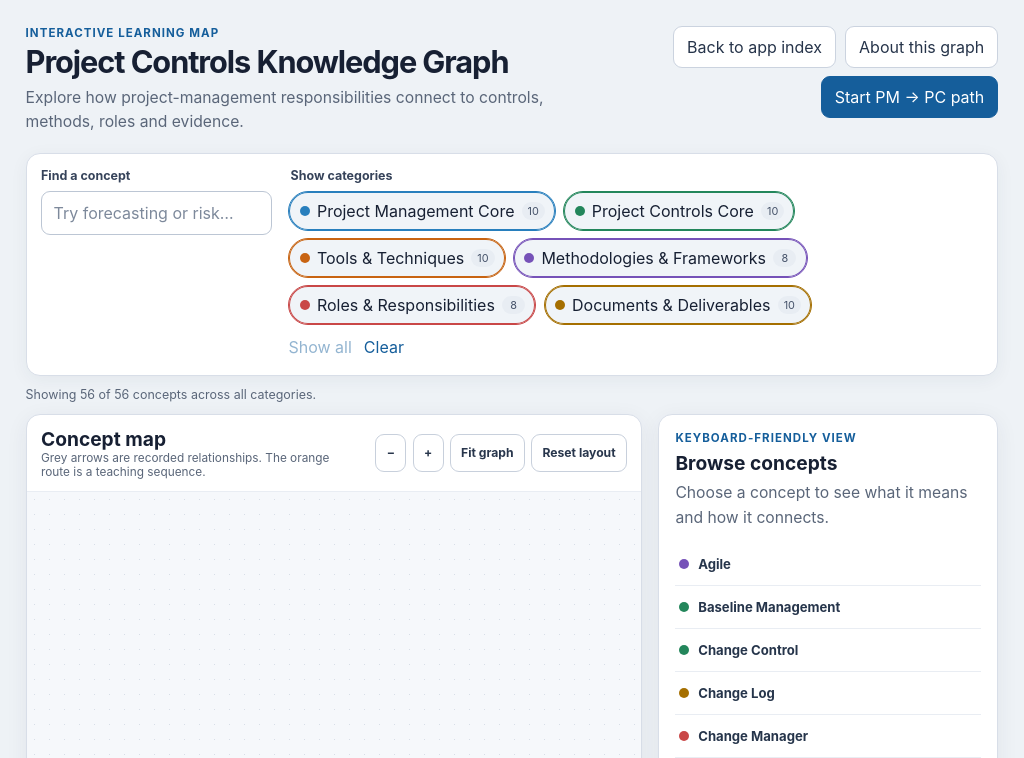
Scenario: Project Controls Knowledge Graph › renders the complete default view and real category controls
Expected: the heading "Project Controls Knowledge Graph" is shown, [26,45,586,78]
Expected: the text "Showing 56 of 56 concepts across all categories." is shown, [26,387,316,402]
Step 1. Click the button "Project Management Core 10" → x=422, y=211, box [288,191,556,231]
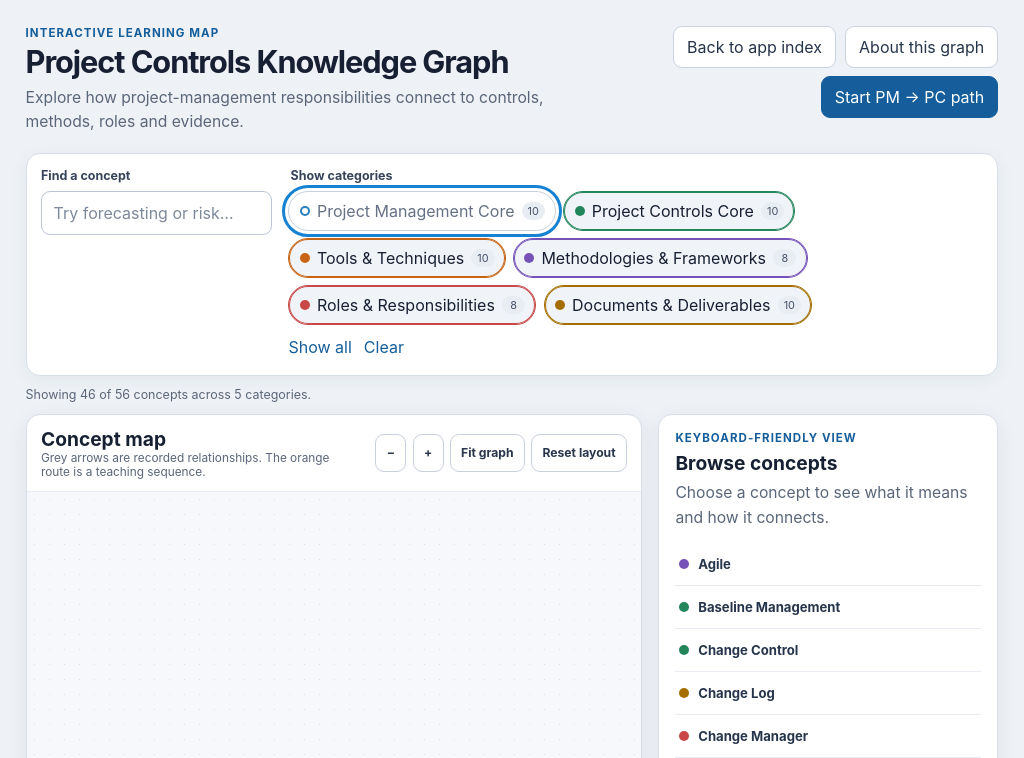
Expected: the text "Showing 46 of 56 concepts across 5 categories." is shown, [26,387,311,402]
Step 2. Click the button "Show all" → x=320, y=347, box [288,334,352,361]
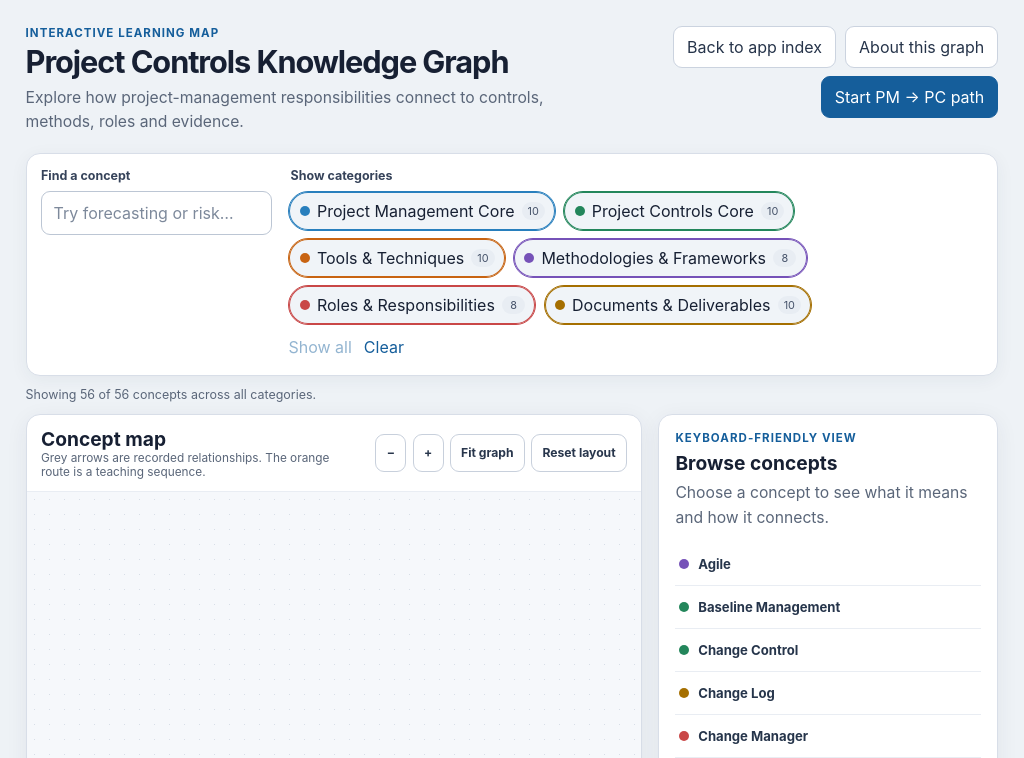
Expected: the text "Showing 56 of 56 concepts across all categories." is shown, [26,387,316,402]
